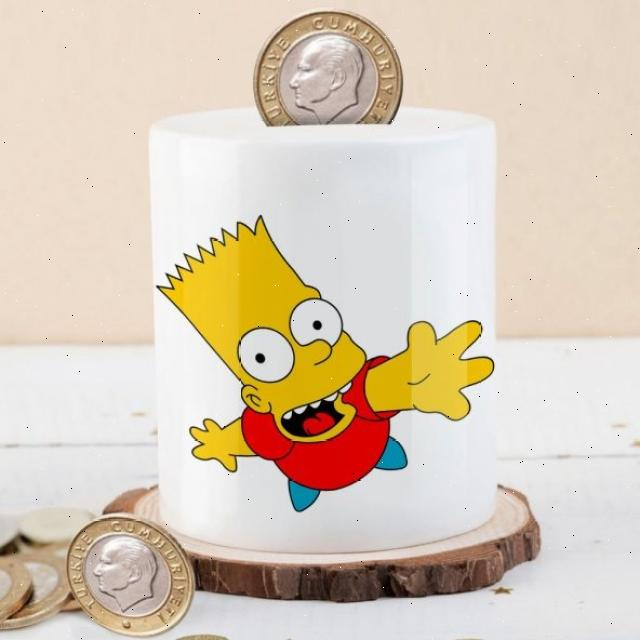Bart Simpson: (156, 214, 370, 448)
